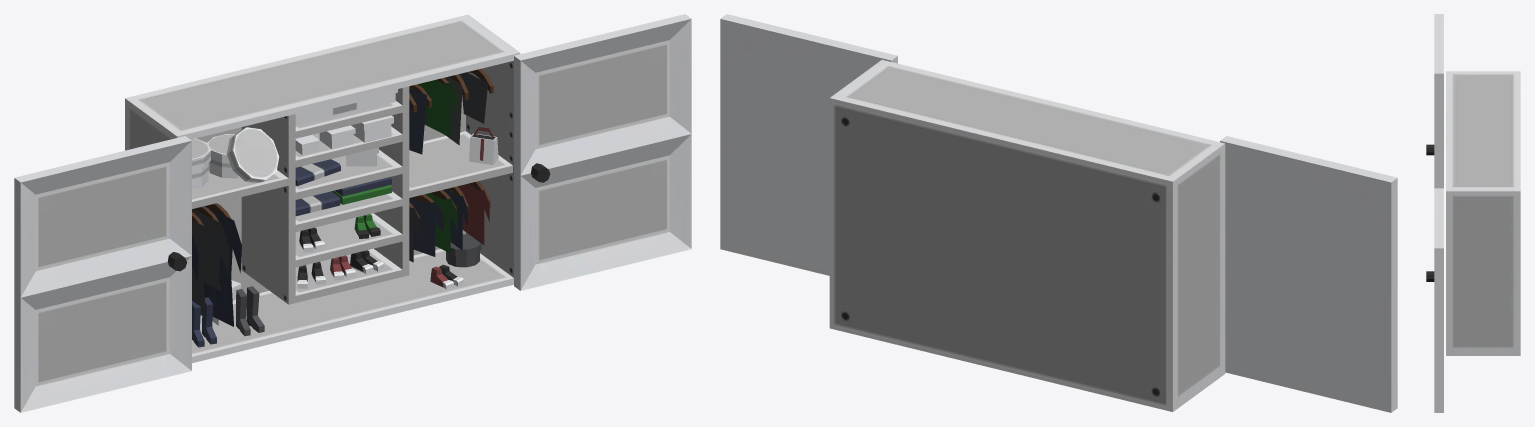
The model's file is 0R3kFJC3CKc.glb.
3 views of the same model, side by side, from view 1: azimuth 30°, elevation 25°; view 2: azimuth 150°, elevation 25°; view 3: azimuth 270°, elevation 25° (orthographic). The views are drawn at different scales.
Parts seen in each view (by area): view 1: Closet; view 2: Closet; view 3: Closet.
Part boxes in pixels (x1,y1,x2,y2): Closet: (14, 14, 691, 412); Closet: (720, 14, 1397, 412); Closet: (1426, 14, 1520, 412).
Size of the model in its own units: 3.05 by 1 by 0.5193.
1 material, 1 textured.
